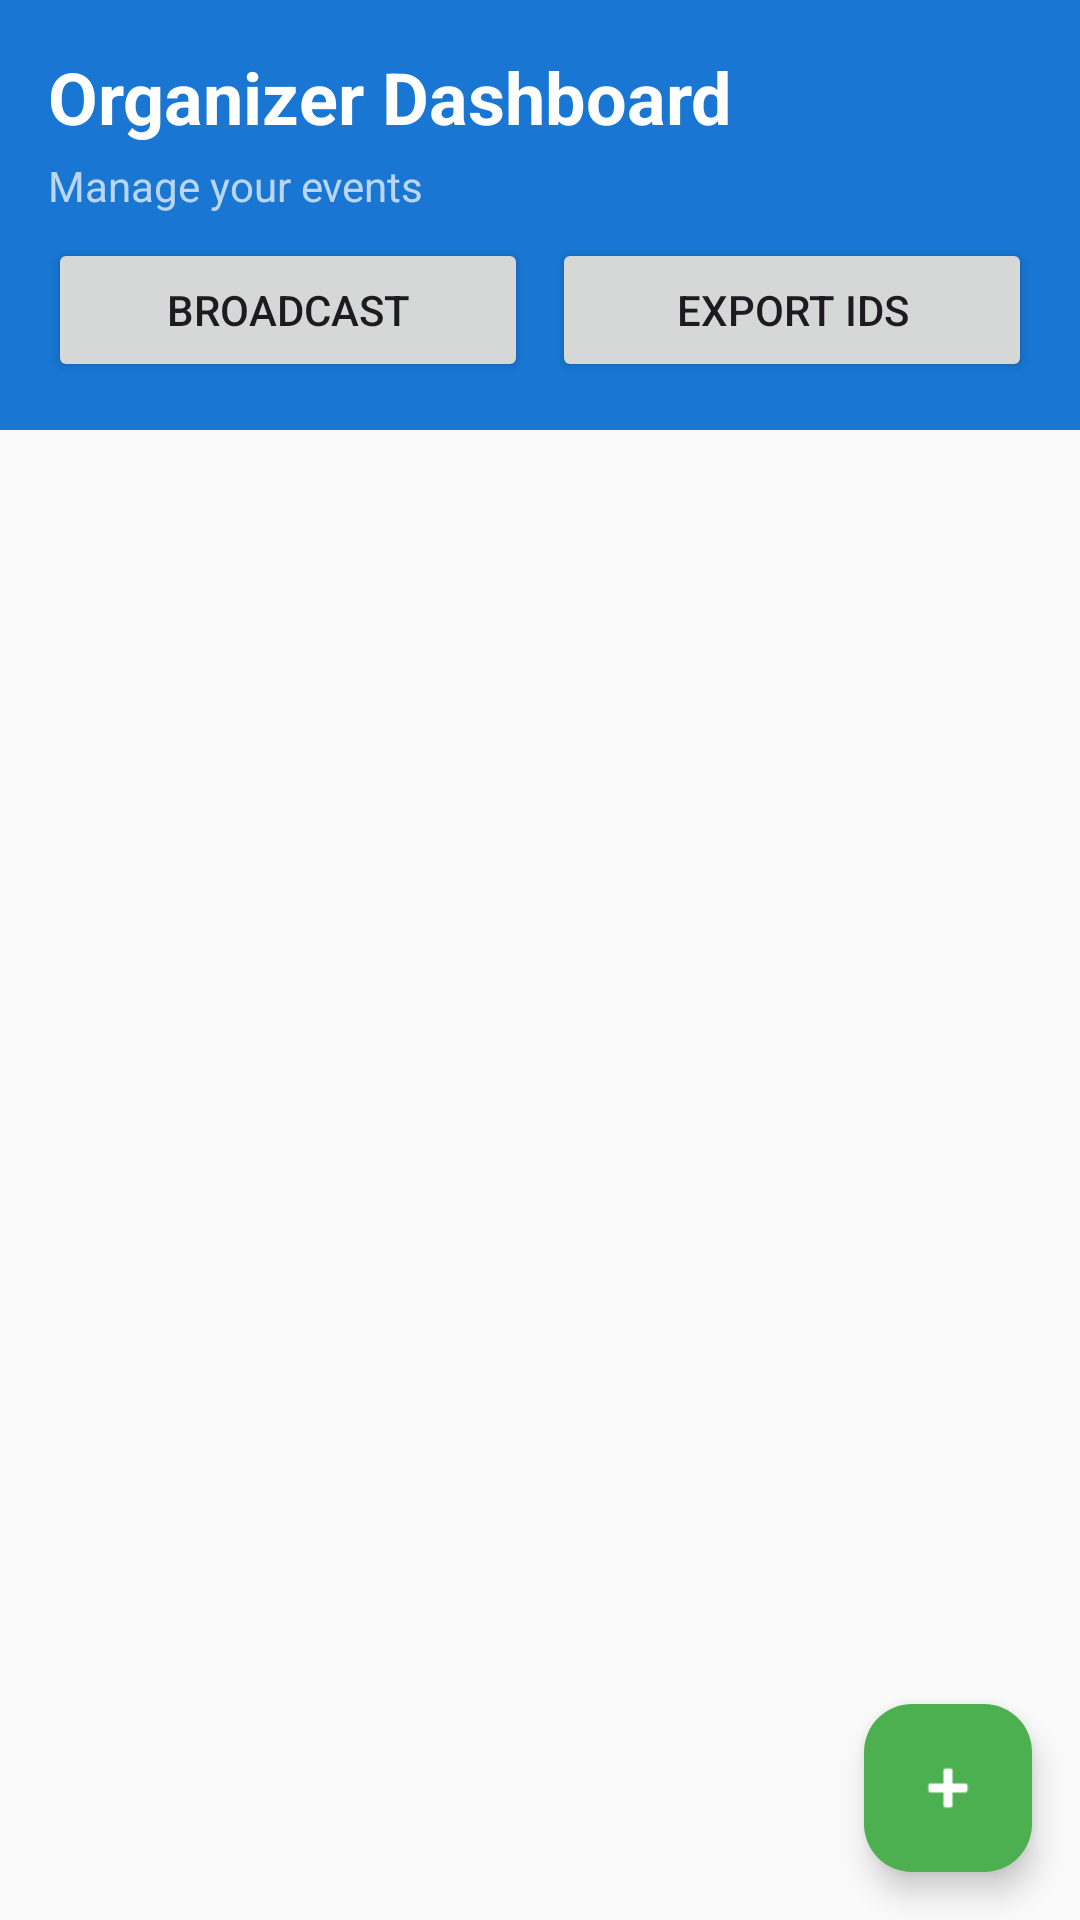

Icons on this 1080x1920 Android screen, each with the point to tap as [x,y]:
Create Event: [948,1788]
